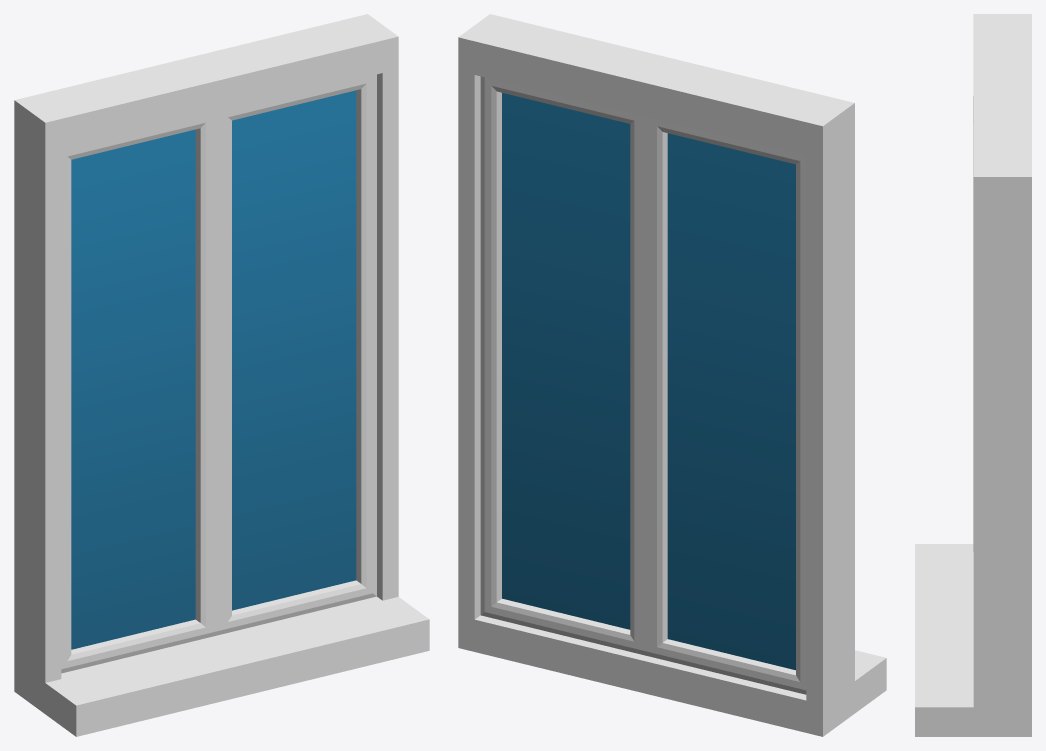
File: Window04.fbx
The picture shows the model from 3 angles, left to right: view 1: azimuth 30°, elevation 25°; view 2: azimuth 150°, elevation 25°; view 3: azimuth 270°, elevation 25°; orthographic projection. The views are drawn at different scales.
Visible parts, largest first — view 1: Window04; view 2: Window04; view 3: Window04.
Boxes of the visible parts, <box> form: Window04: <box>14,14,429,736</box>; Window04: <box>458,14,886,736</box>; Window04: <box>915,14,1031,736</box>.
Size of the model in its own units: 66 by 106 by 20.
